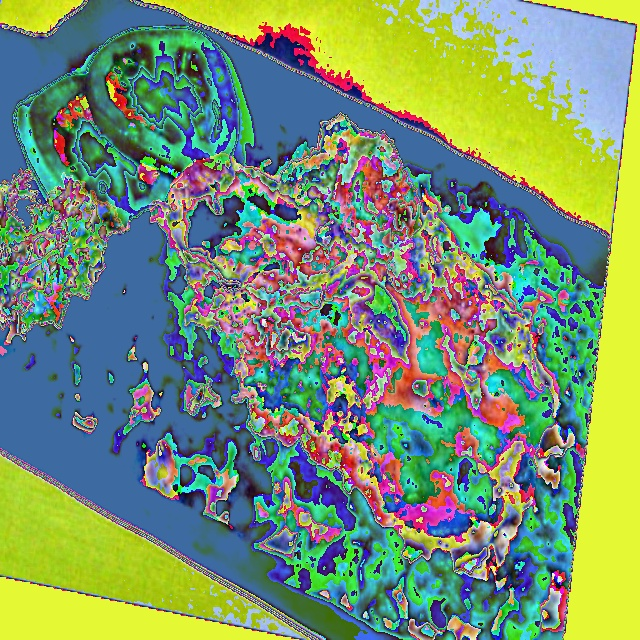background: (0, 24, 604, 639)
